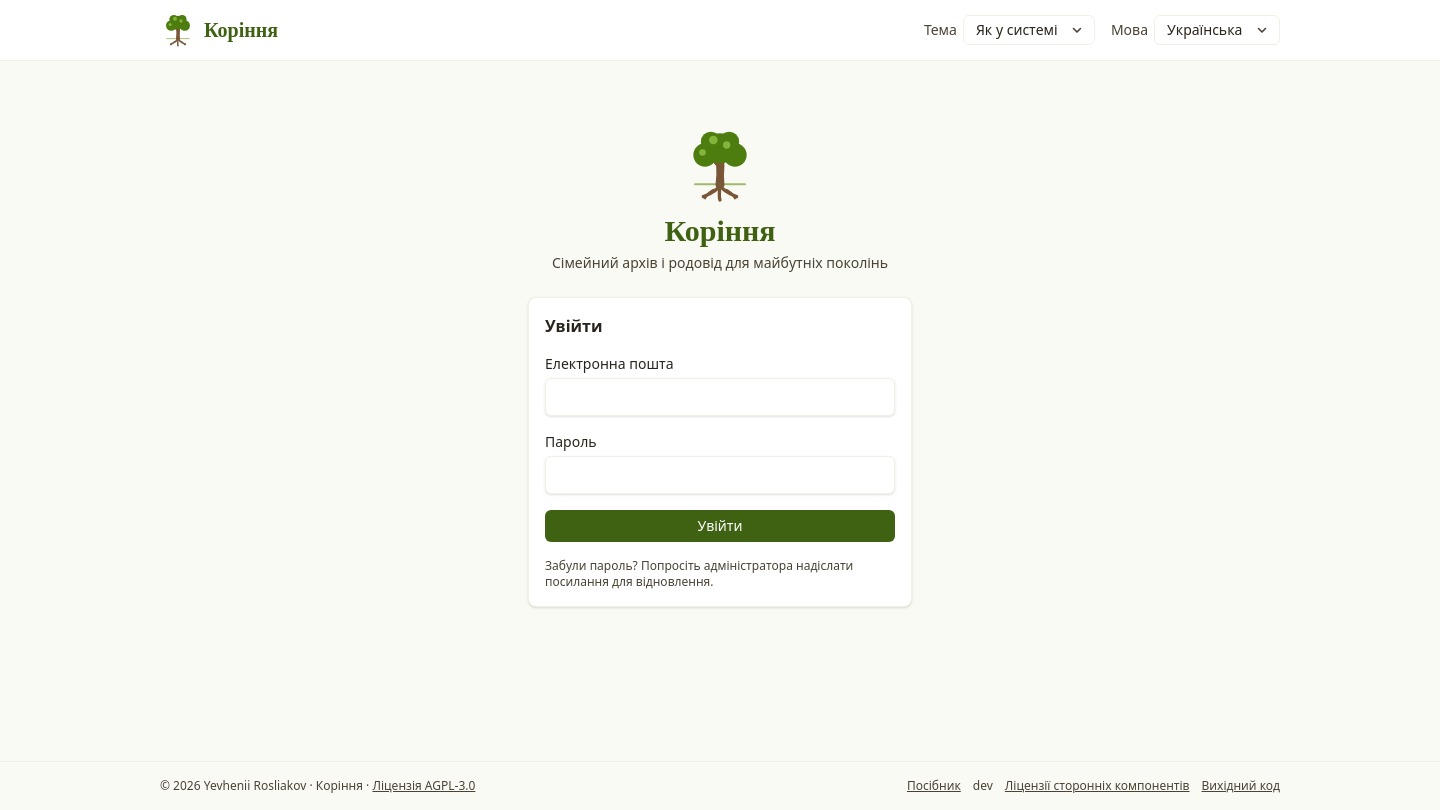
Test case: App › logs in and shows the user's trees
In the field labelled "Електронна пошта": (720, 397) [545,378,895,416], type "halyna@example.com"
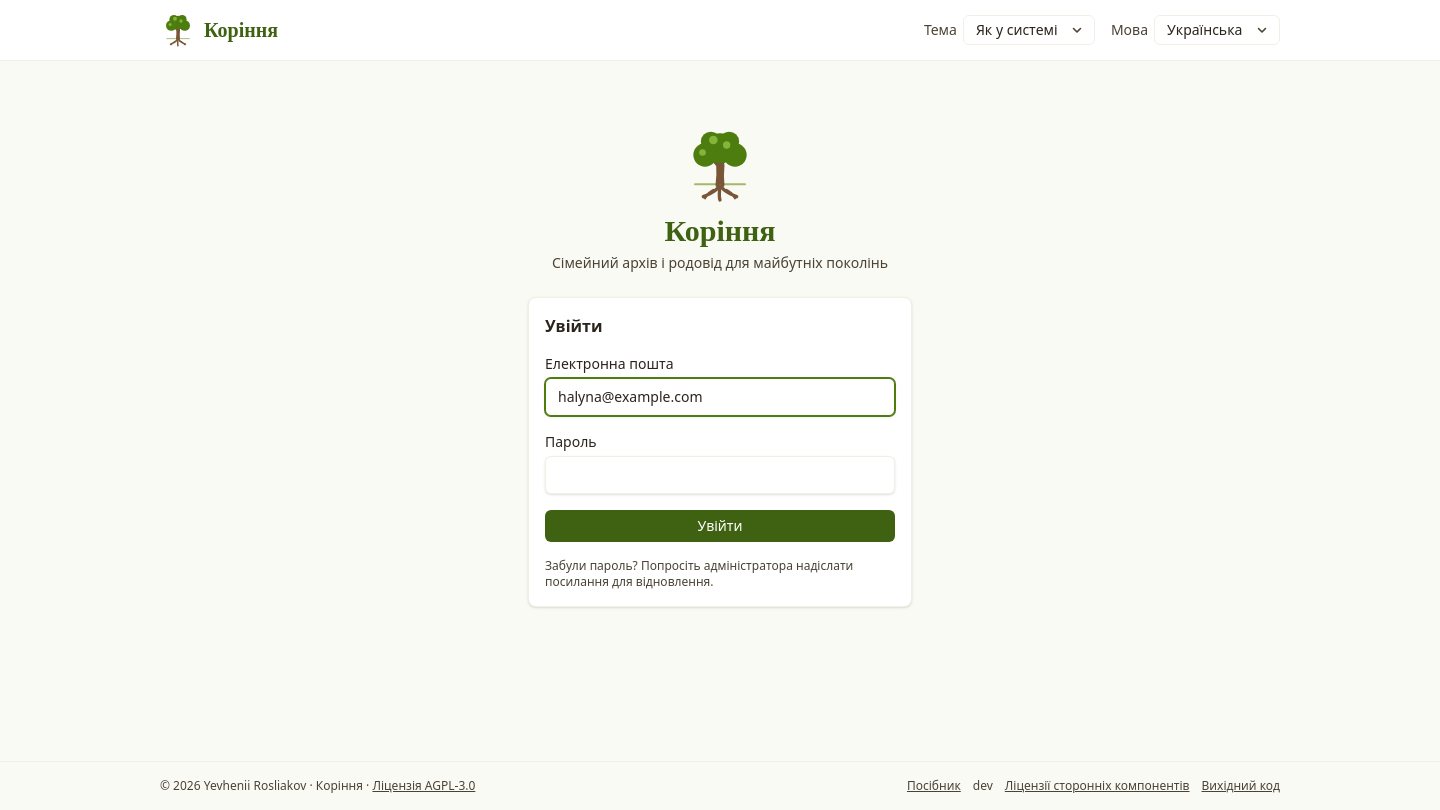
In the password field labelled "Пароль": (720, 475) [545,456,895,494], type "correct-horse-battery"
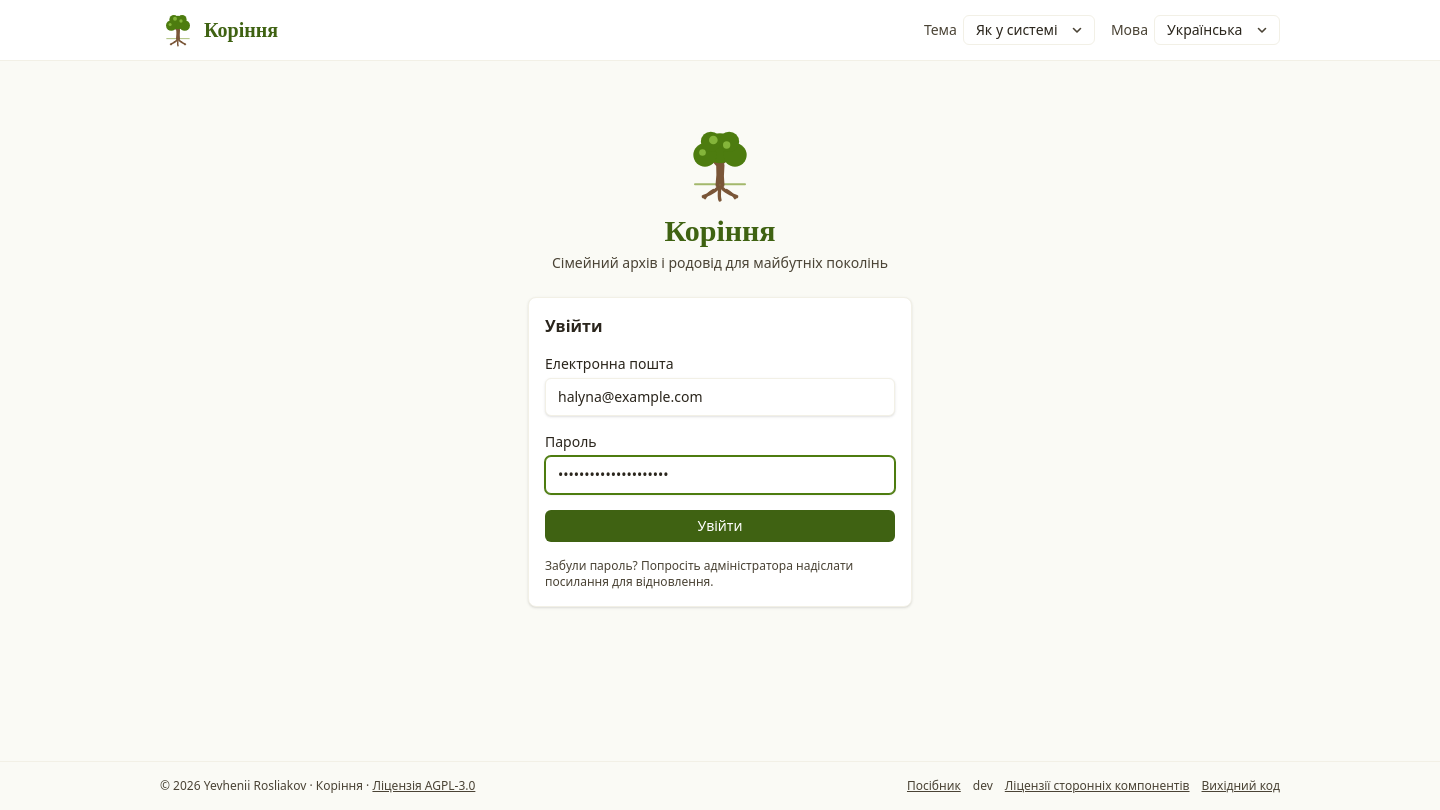
Click the button "Увійти": (720, 526) [545,510,895,542]
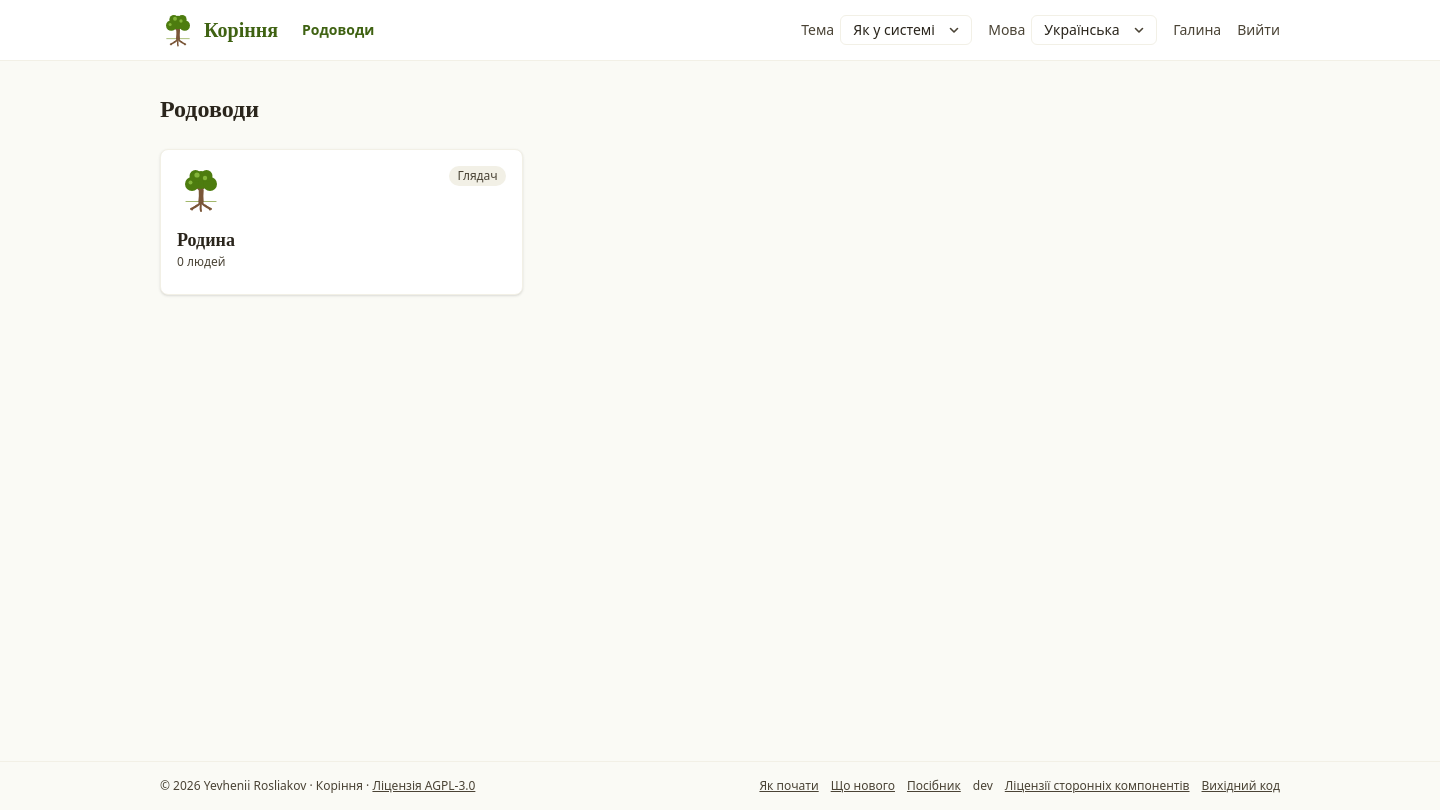
Check: the heading "Родина" is shown, box [177,230,235,250]
Check: the text "Глядач" is shown, box [449,166,506,186]
